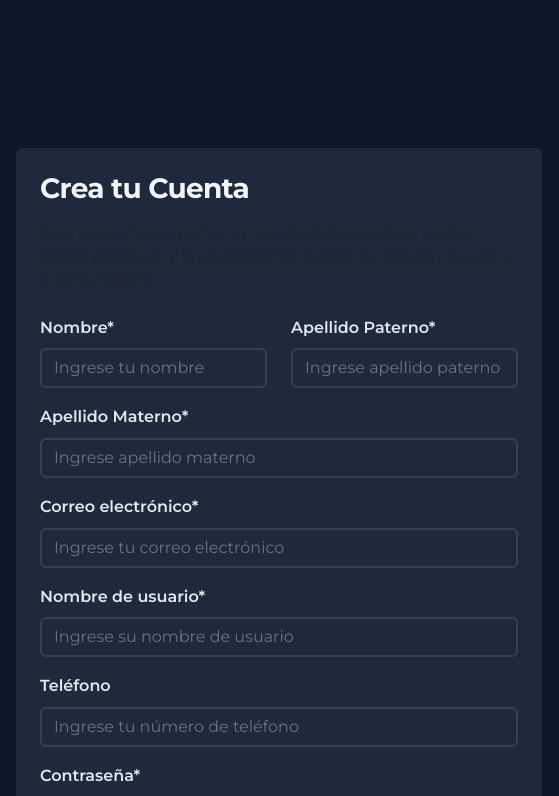
Test case: Registro Component › Validaciones de formato › debe validar que la contraseña tenga al menos 8 caracteres
// Llenar campos requeridos
Type "Test" into the field labelled "Nombre*".
click(154, 368); type("Test")  # box [40,348,267,388]
Type "User" into the field labelled "Apellido Paterno*".
click(404, 368); type("User")  # box [291,348,518,388]
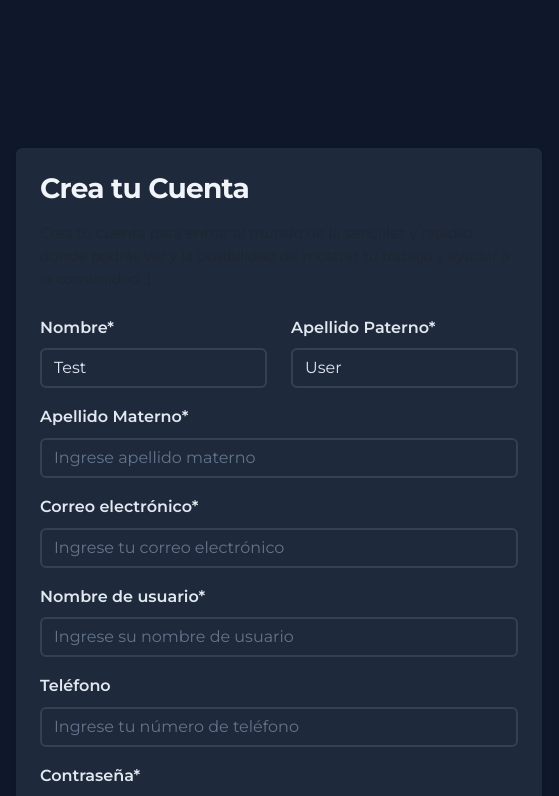
Type "Prueba" into the field labelled "Apellido Materno*".
click(279, 458); type("Prueba")  # box [40,438,518,478]
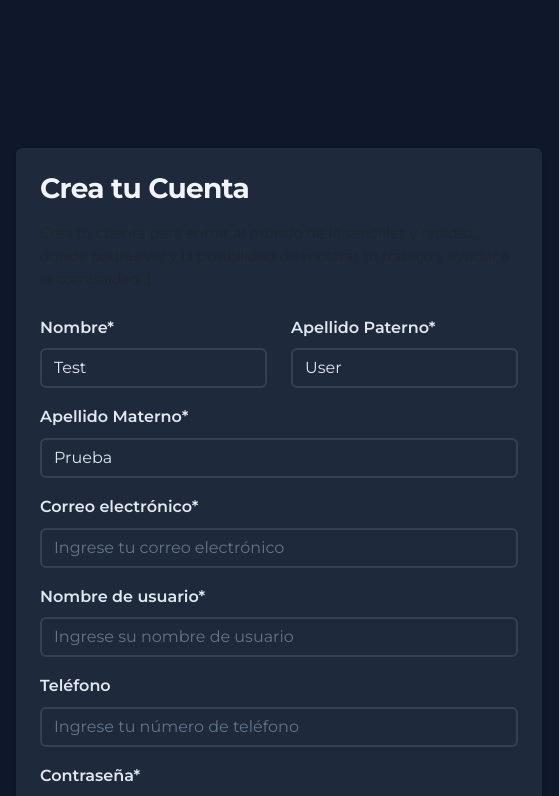
Type "test@test.com" into the field labelled "Correo electrónico*".
click(279, 548); type("test@test.com")  # box [40,528,518,568]
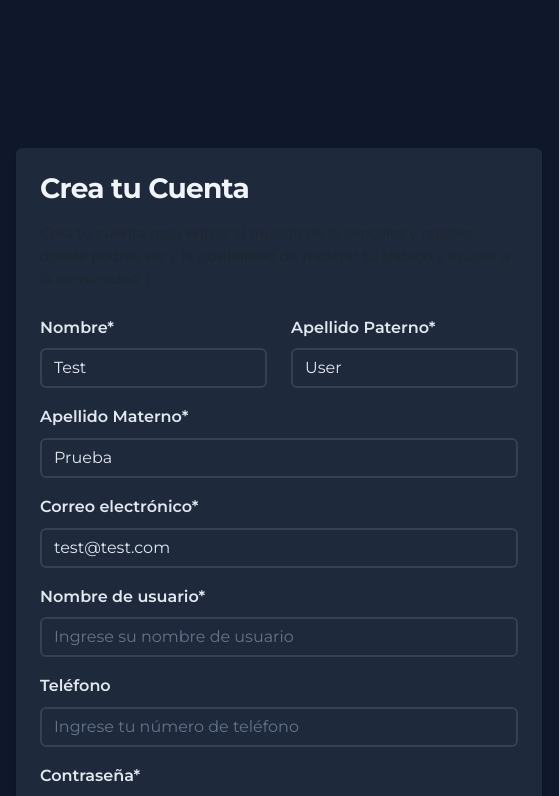
Type "testuser" into the field labelled "Nombre de usuario*".
click(279, 637); type("testuser")  # box [40,617,518,657]
(page scrolled)
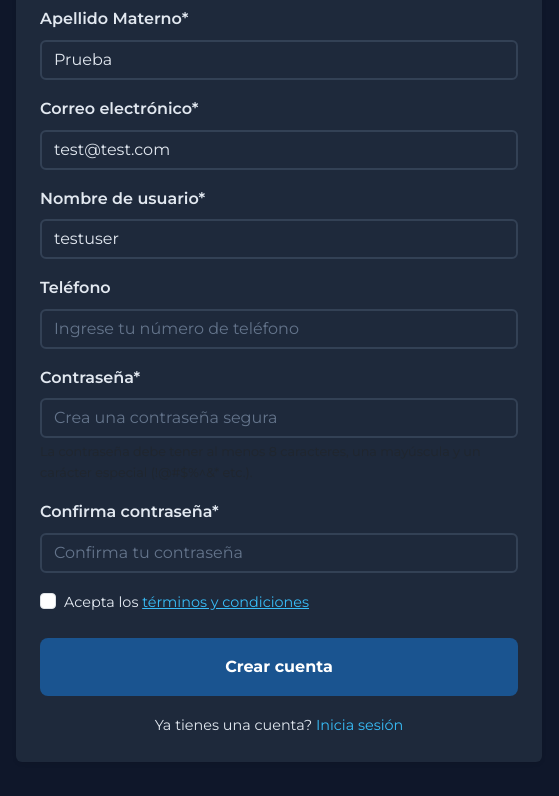
Type "Pass1!" into the password field labelled "Contraseña*".
click(279, 418); type("Pass1!")  # box [40,398,518,438]
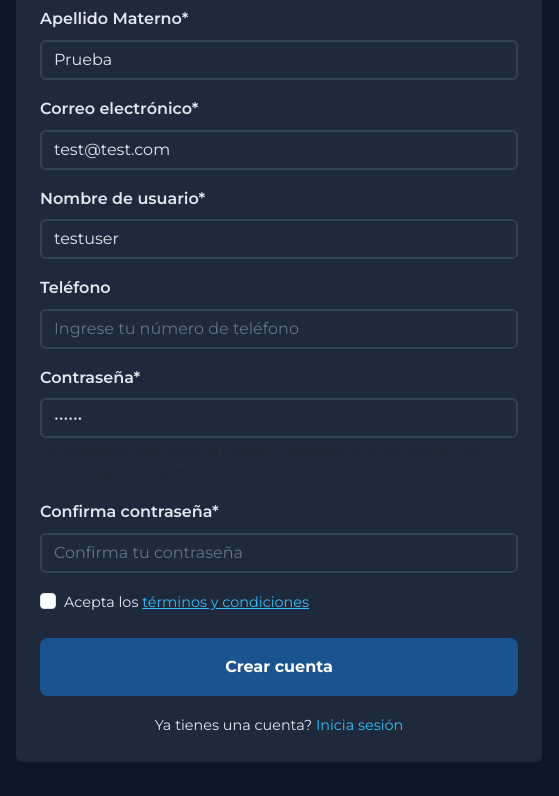
Click the button "Crear cuenta".
click(279, 667)  # box [40,638,518,696]
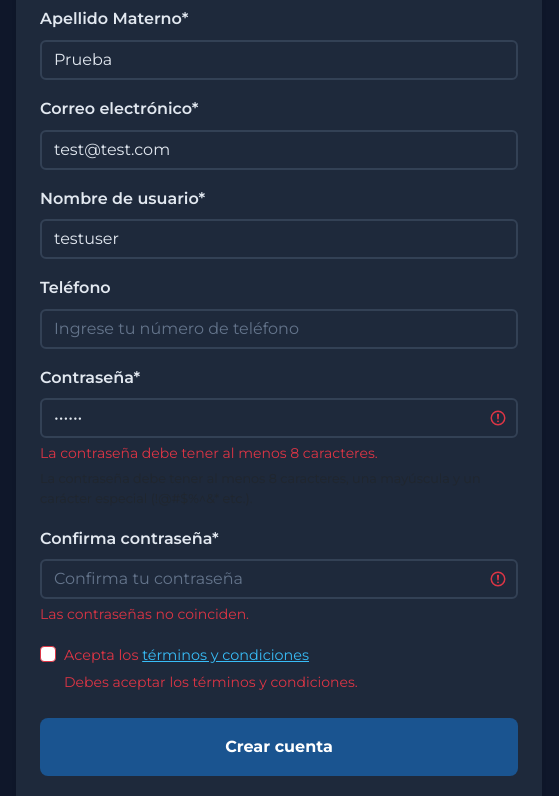
Result: the text "La contraseña debe tener al menos 8 caracteres." is shown at [40,444,378,462]
